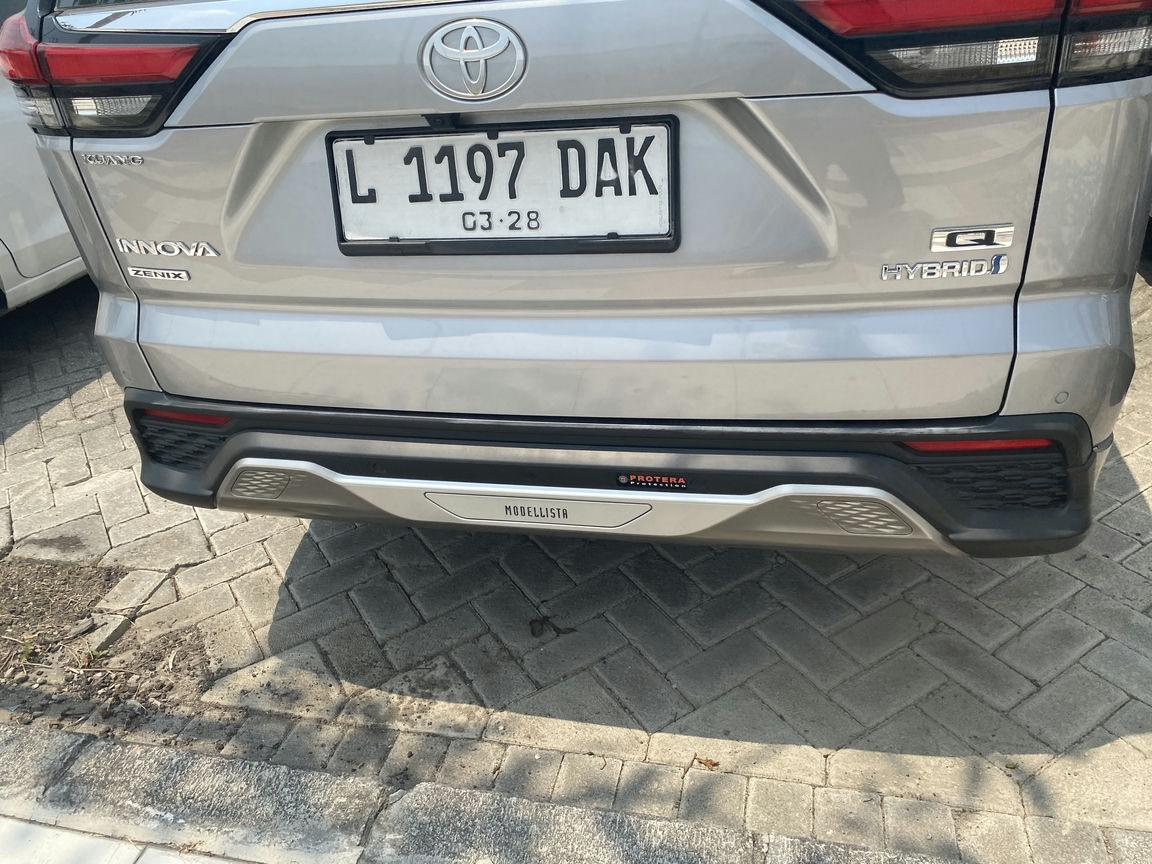plat: (335, 129, 670, 239)
